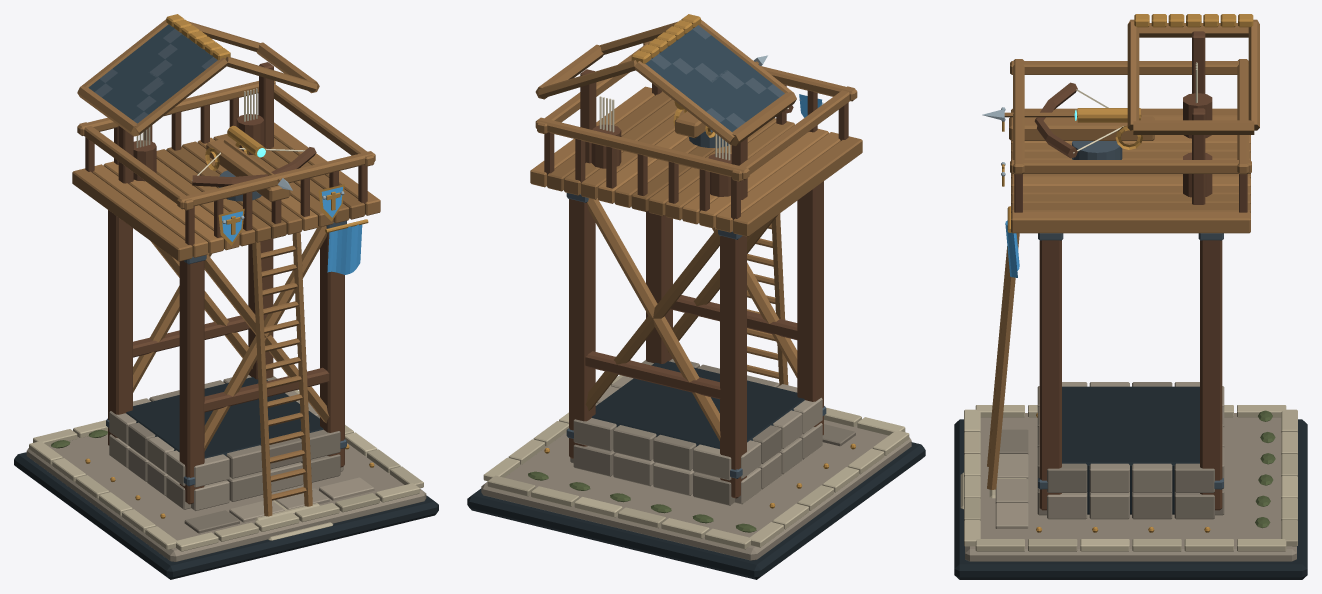
File: archer__francoatiradora__L20.glb
3 renders of one model, left to right at view 1: azimuth 30°, elevation 25°; view 2: azimuth 150°, elevation 25°; view 3: azimuth 270°, elevation 25°, orthographic. The views are drawn at different scales.
Parts seen in each view (by area): view 1: structure, weapon, banners; view 2: structure, weapon; view 3: structure, weapon, banners.
Boxes of the visible parts, bbox=[...] form: structure: bbox=[14, 14, 438, 579]; weapon: bbox=[192, 125, 316, 201]; banners: bbox=[325, 219, 368, 274]; structure: bbox=[467, 14, 925, 579]; weapon: bbox=[673, 55, 793, 147]; structure: bbox=[954, 14, 1307, 579]; weapon: bbox=[982, 82, 1154, 159]; banners: bbox=[1005, 206, 1019, 277].
Size of the model in its own units: 0.803 by 1.23 by 0.803.
